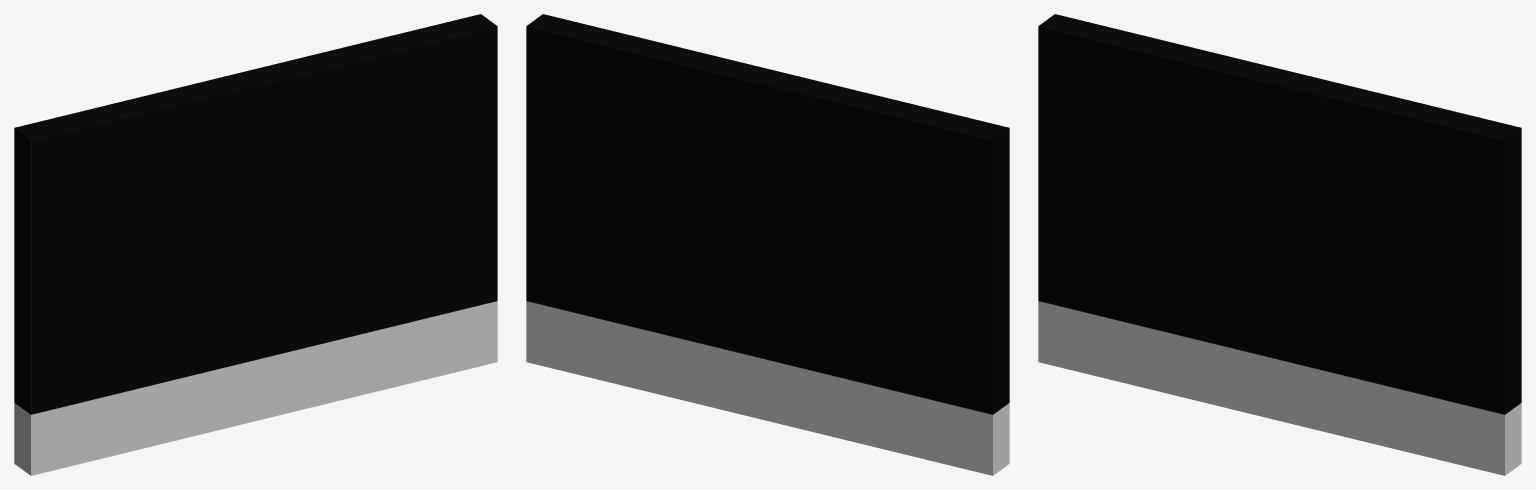
File: dc_metrobus_wall_1b.obj
The picture shows the model from 3 angles, left to right: view 1: azimuth 30°, elevation 25°; view 2: azimuth 150°, elevation 25°; view 3: azimuth 330°, elevation 25°; orthographic projection.
Visible parts, largest first — view 1: cube; view 2: cube; view 3: cube.
Boxes of the visible parts, bbox=[...] form: cube: bbox=[14, 14, 497, 475]; cube: bbox=[526, 14, 1009, 475]; cube: bbox=[1038, 14, 1521, 475].
Size of the model in its own units: 1 by 0.6875 by 0.0625.
Materials: 2 (2 with a texture image).
